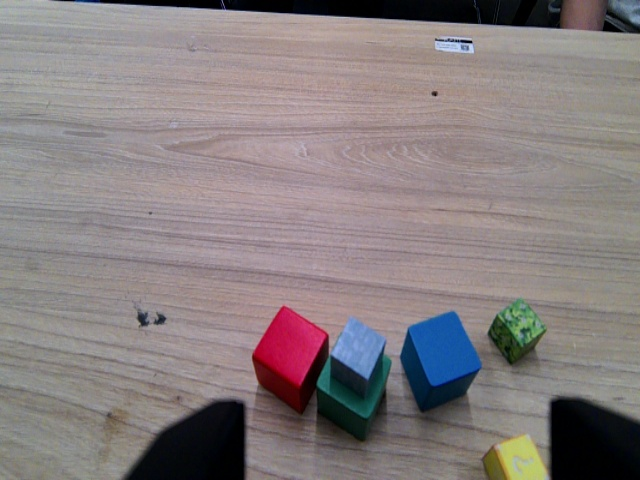grass: (498, 296, 547, 367)
lucky: (489, 431, 550, 480)
stone: (331, 315, 385, 386)
